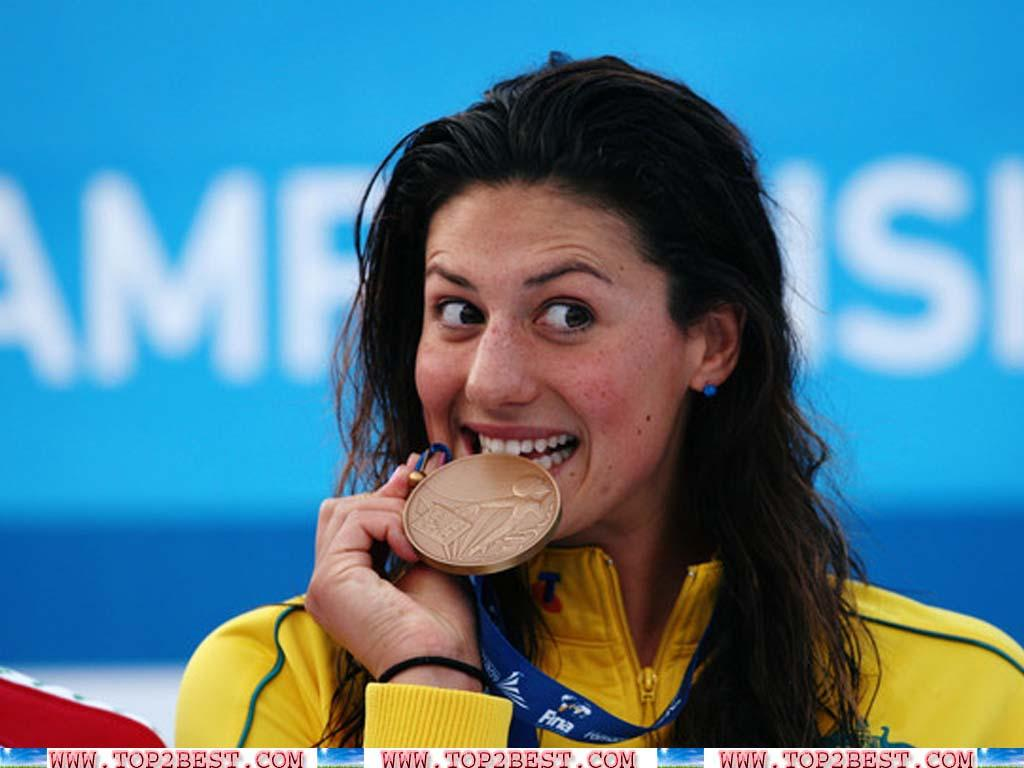face: (412, 208, 682, 552)
